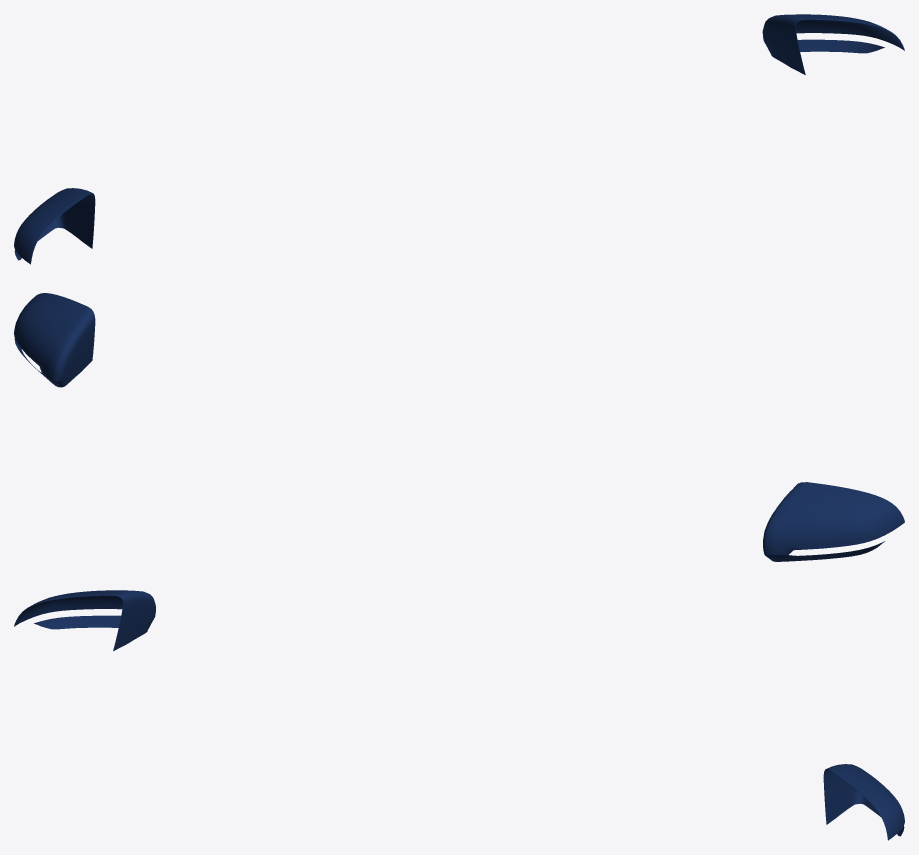
The model's file is Mr_paint.glb.
3 views of the same model, one above another, from view 1: azimuth 30°, elevation 25°; view 2: azimuth 150°, elevation 25°; view 3: azimuth 330°, elevation 25° (orthographic).
Visible parts, largest first — view 1: Mr_paint; view 2: Mr_paint; view 3: Mr_paint.
Part boxes in pixels (x1,y1,x2,y2): Mr_paint: (14,14,904,264); Mr_paint: (14,293,904,561); Mr_paint: (14,590,904,840).
Size of the model in its own units: 1.87 by 0.1172 by 0.2157.
